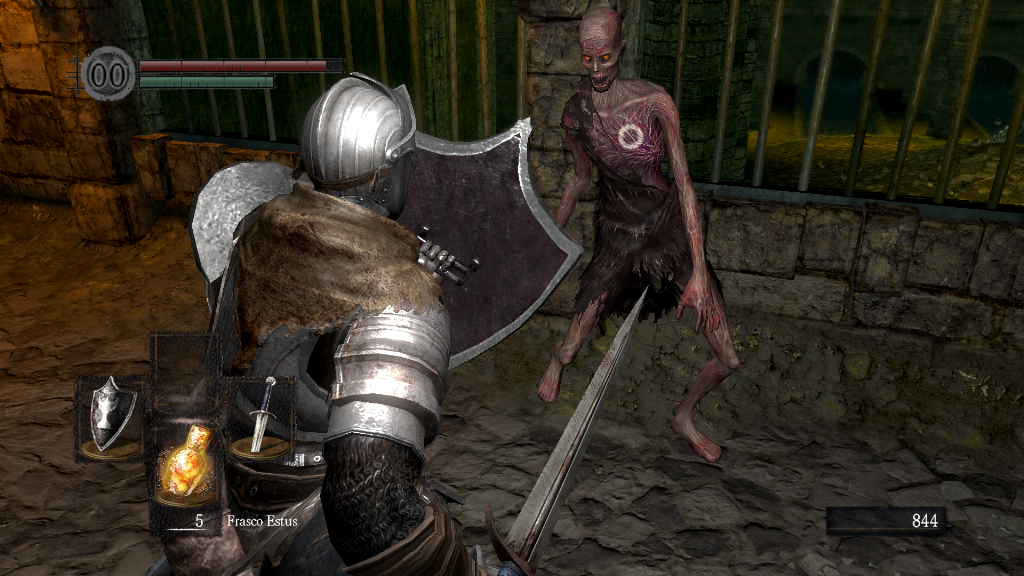health: (138, 58, 343, 71)
hollow: (535, 6, 741, 466)
humanity: (80, 45, 136, 102)
player: (145, 71, 651, 576)
souls: (825, 506, 945, 536)
stamina: (138, 74, 274, 88)
